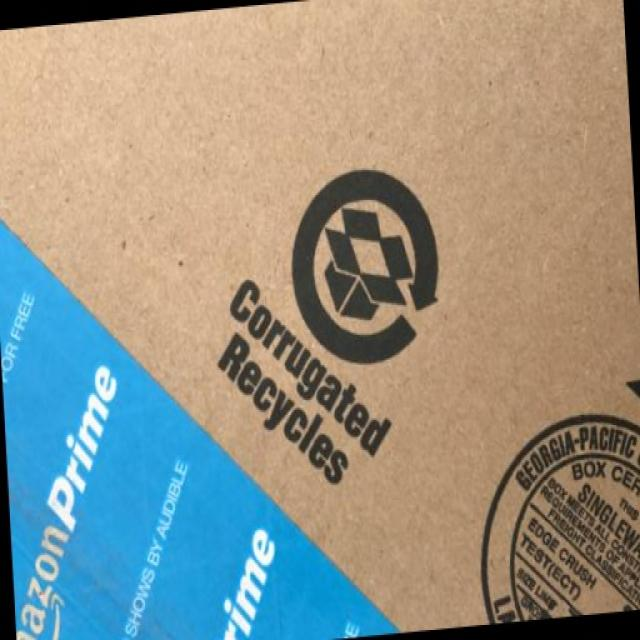carton: (25, 6, 610, 608)
